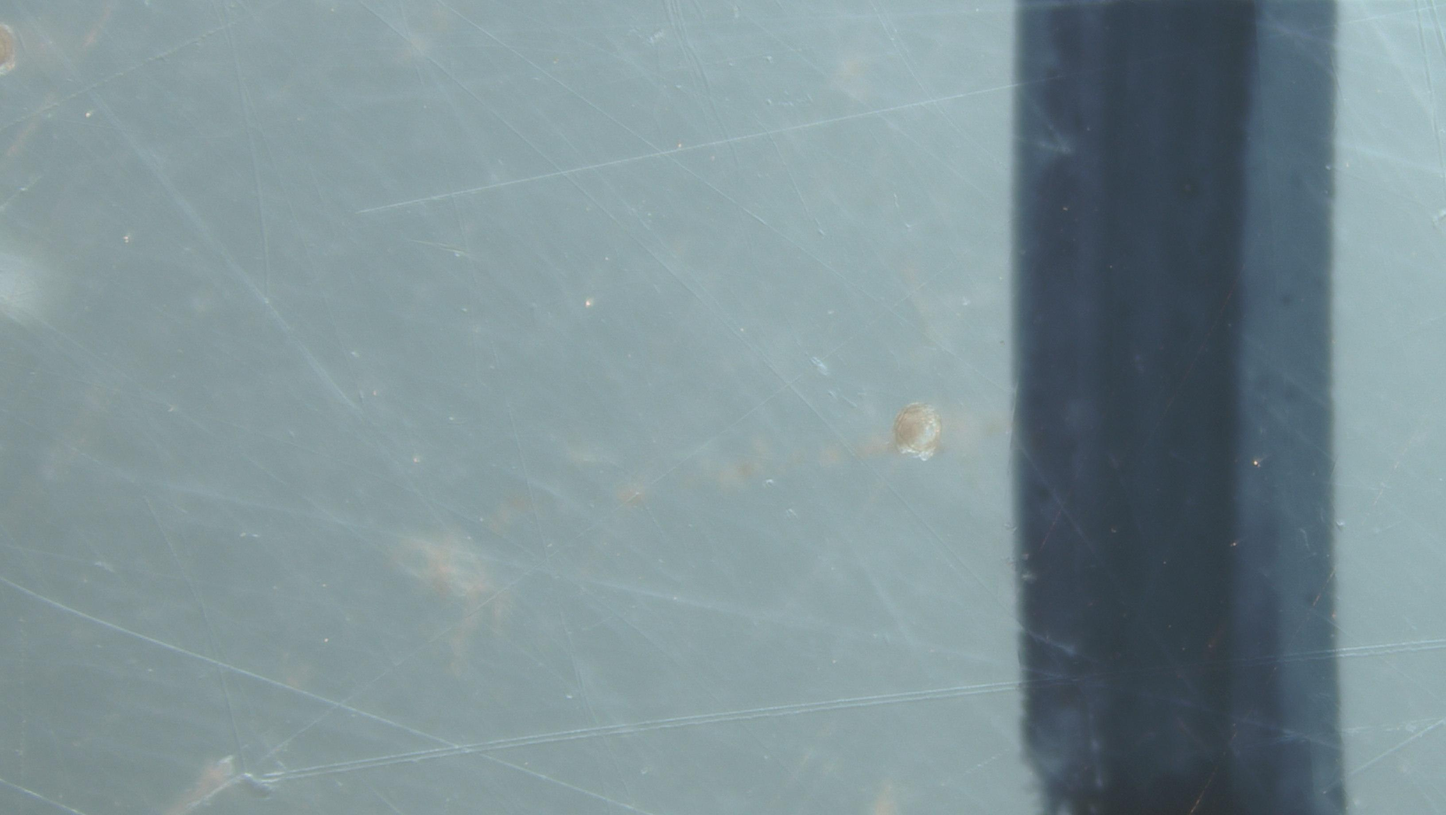live: (893, 403, 941, 461)
